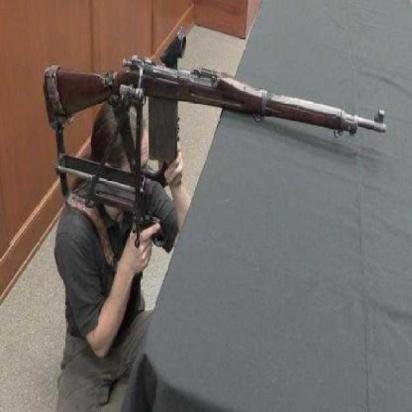Gun: (37, 24, 388, 189)
